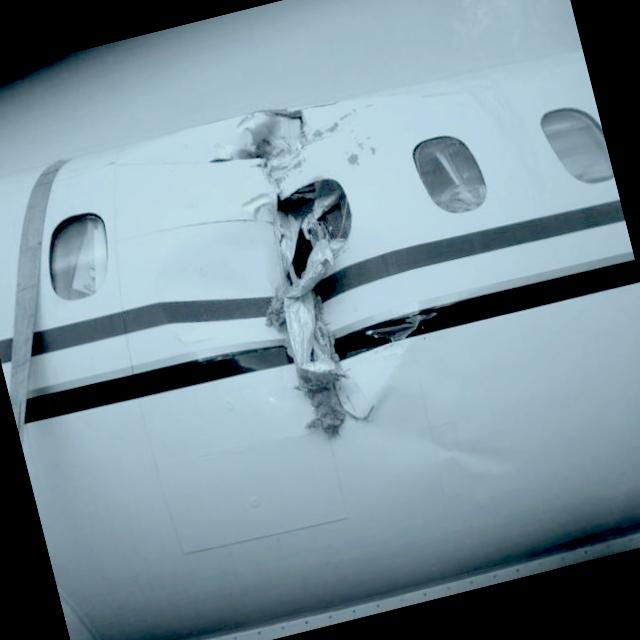crack: (195, 95, 411, 458)
dent: (334, 372, 524, 509), (141, 217, 279, 375)
